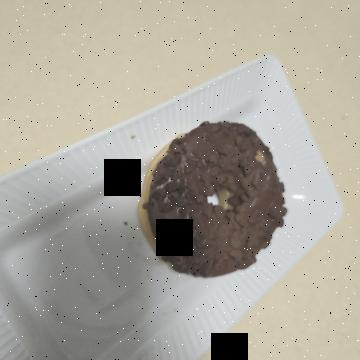doughnut: (102, 53, 290, 221)
